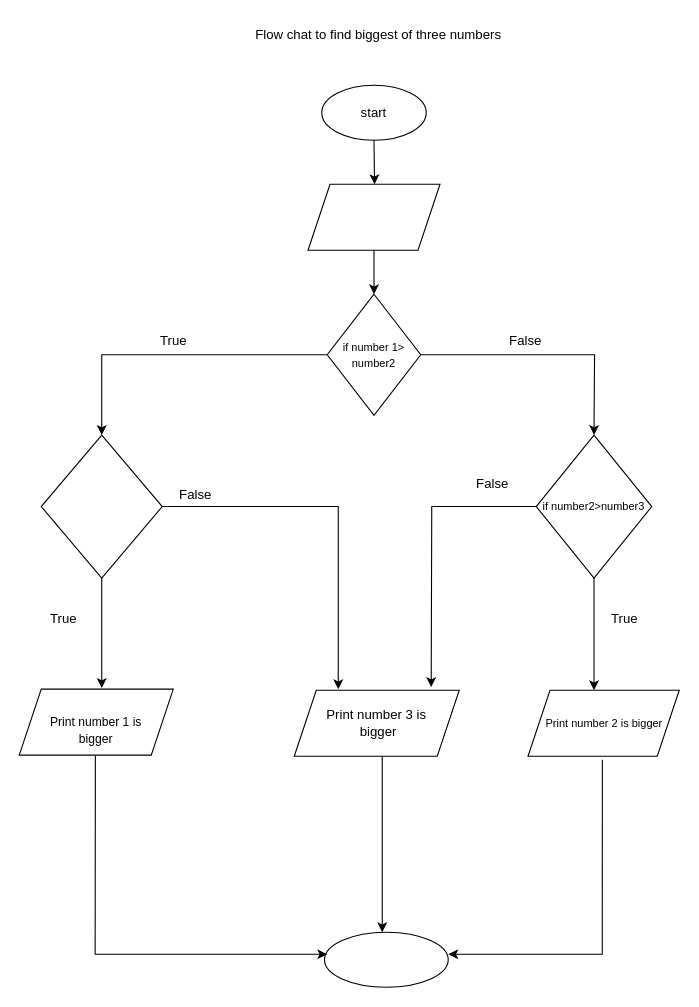
The diagram is 699 pixels wide and 1007 high, and some of its shapes have lost their labels. The shapes that lost their labels are listed below. From the top down, each one's box as (x1, y1, x2, y2) in pixels, then its label:
(307, 183, 440, 250): Read number1,number2 number3
(40, 434, 162, 578): if number1>number3
(323, 931, 448, 987): stop
